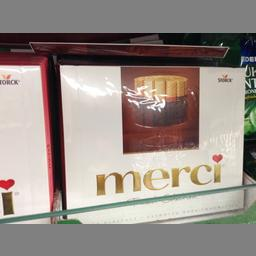chocolate: (58, 62, 244, 220)
